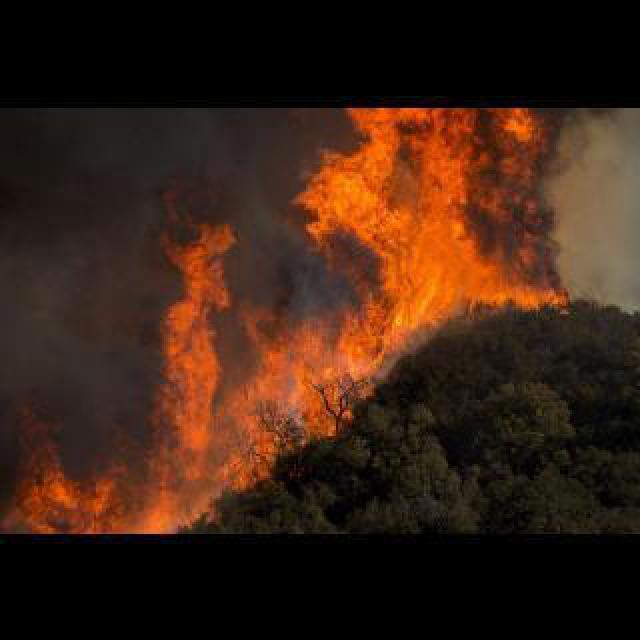fire: (6, 118, 566, 528)
